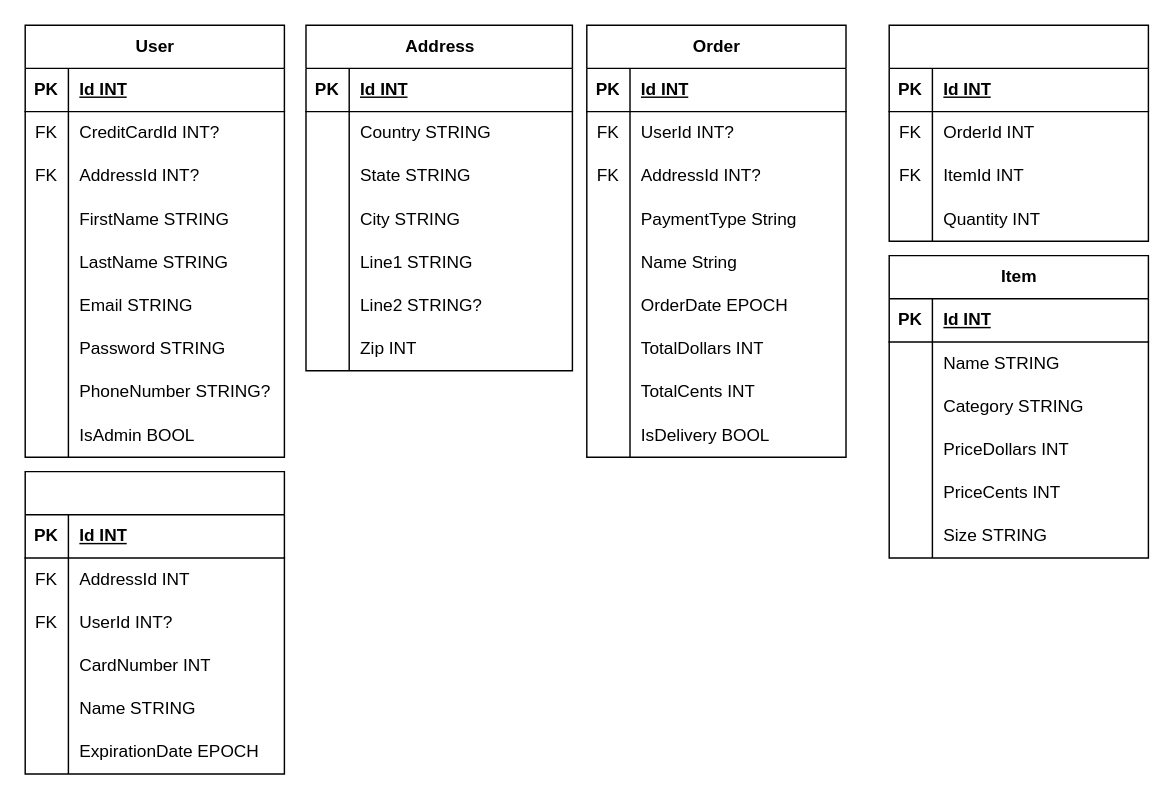
Some shapes in this 1174 by 799 pixel diagram are drawn without their labels. Here are the shapes that lost their labels. From the top down, the box of each, then its label:
(888, 24, 1148, 241): OrderItems
(24, 470, 284, 774): CreditCard
